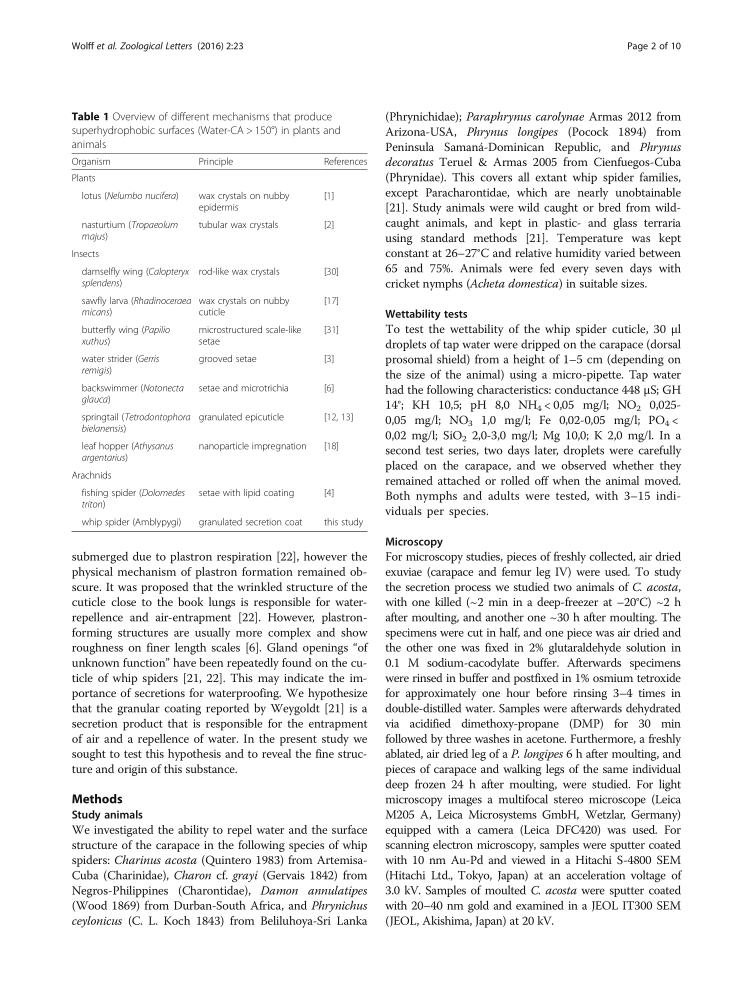table: (71, 155, 367, 527)
